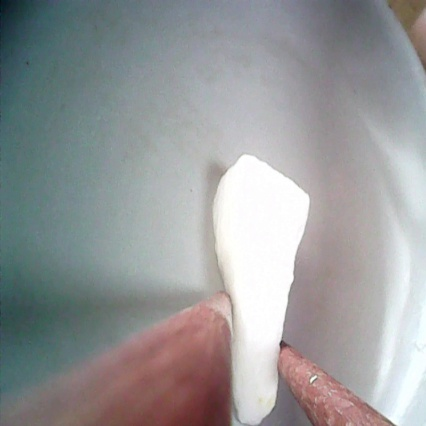white_chinese-yam: (209, 150, 321, 426)
